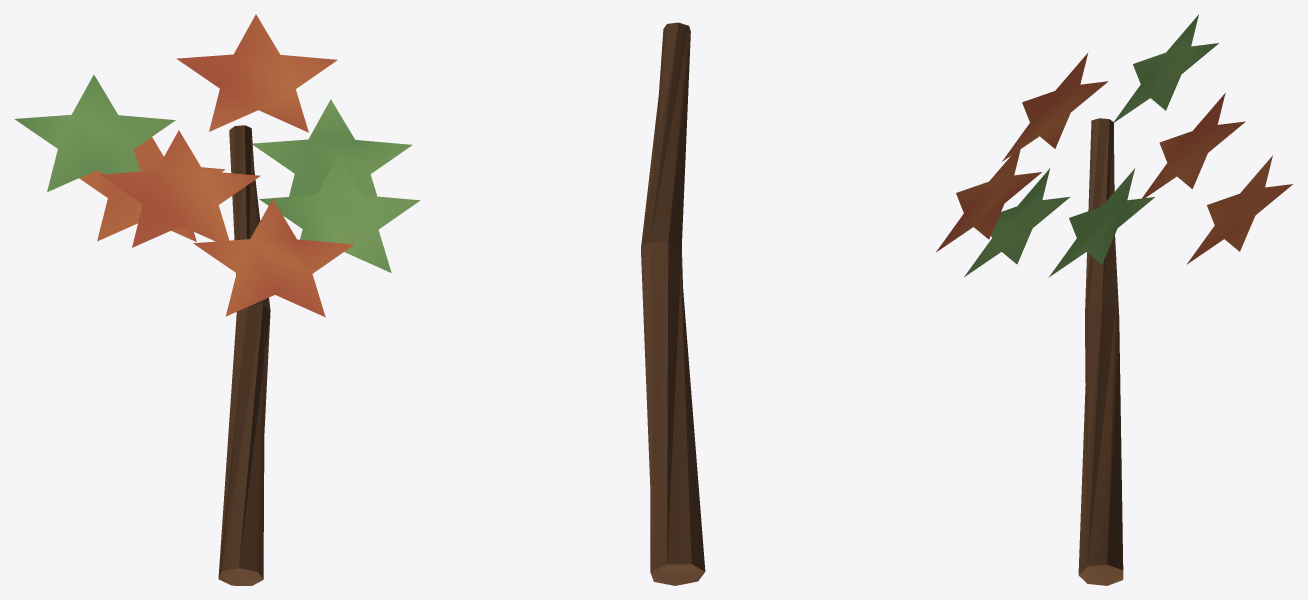
The model's file is forest_maple.glb.
3 views of the same model, side by side, from view 1: azimuth 30°, elevation 25°; view 2: azimuth 150°, elevation 25°; view 3: azimuth 270°, elevation 25° (orthographic). The views are drawn at different scales.
Parts seen in each view (by area): view 1: Maple; view 2: Maple; view 3: Maple.
Part boxes in pixels (<box>): Maple: <box>14,14,420,585</box>; Maple: <box>641,22,705,585</box>; Maple: <box>936,14,1292,585</box>.
Bounding box in the file's own units: 1.4 × 1.87 × 1.22.
